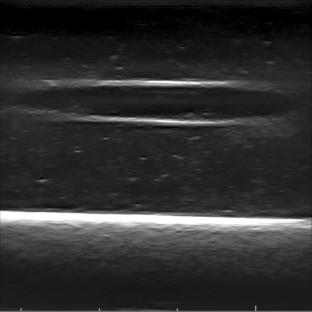vessel: (27, 79, 288, 128)
